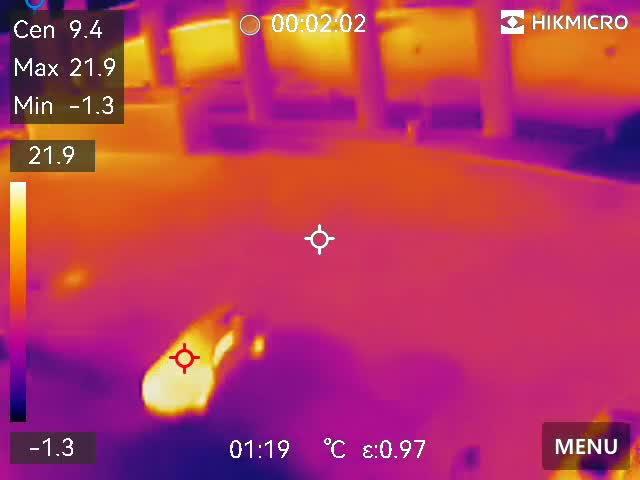vehicle: (124, 299, 276, 418)
